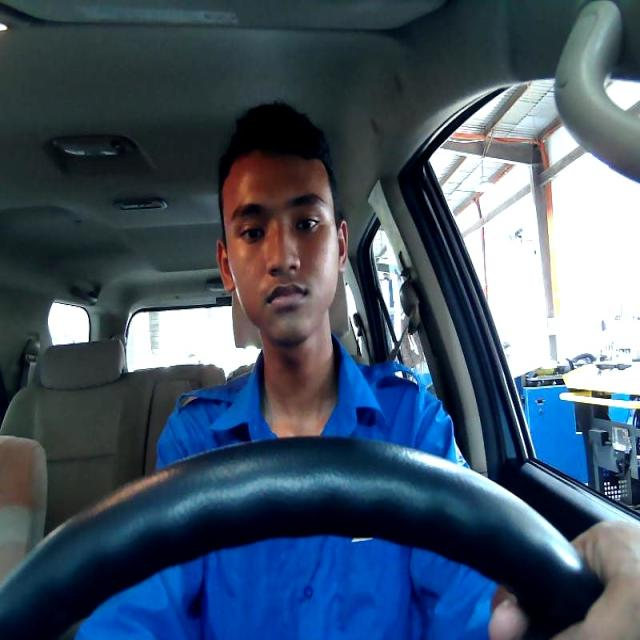focused: (216, 152, 347, 346)
